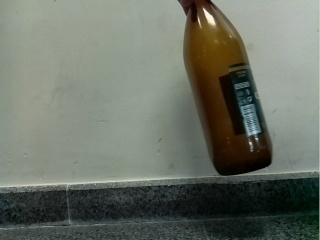pote cristal: (182, 1, 274, 176)
